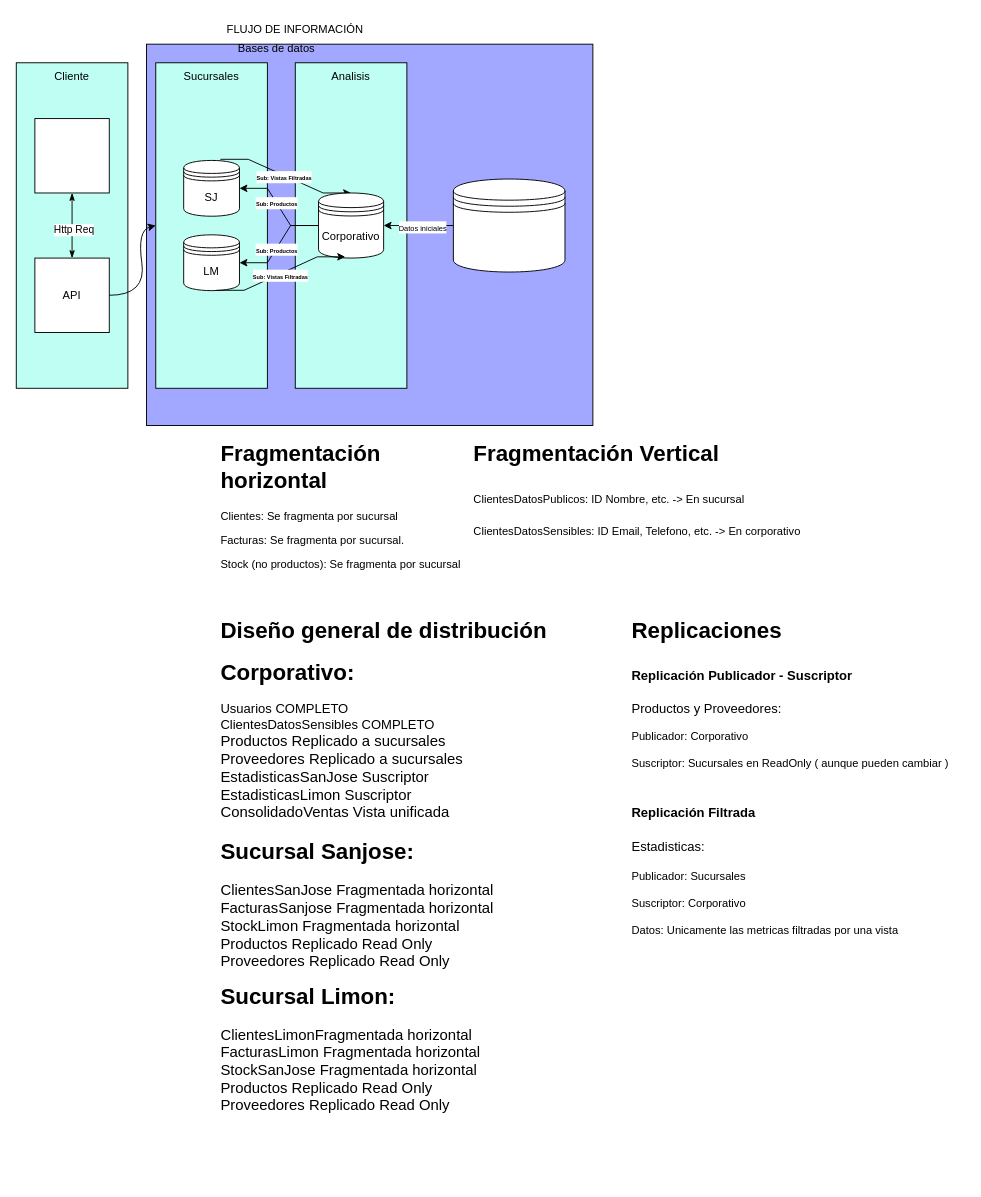
This 981x1197 diagram has some shape labels left out. Each missing label, with the centre of its shape:
"AppWeb" belongs at point 71,155.
"WideWorldImporters" belongs at point 508,225.
